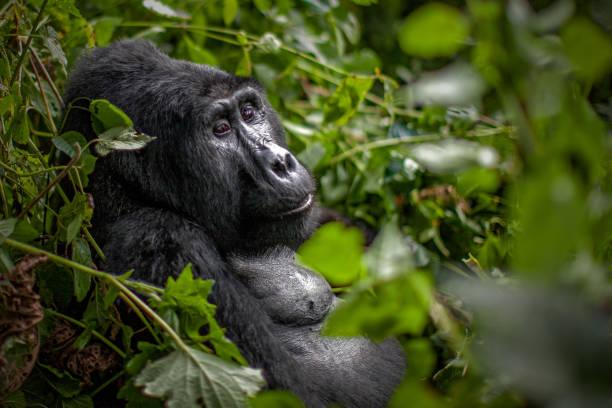goriile_montagne: (53, 33, 434, 408)
